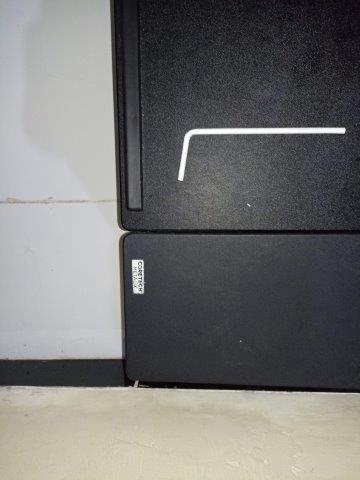sedotan: (178, 127, 345, 181)
